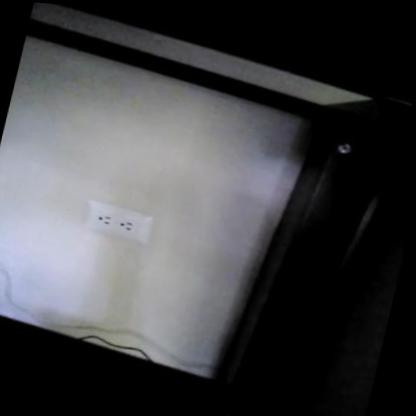OUTLET: (81, 198, 157, 246)
